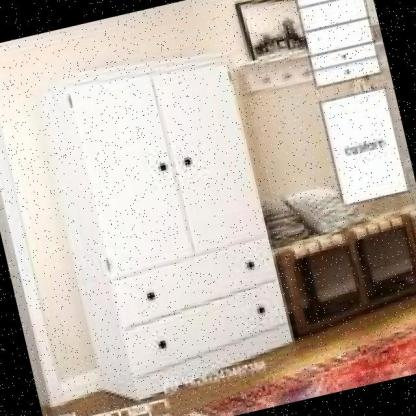Closet: (34, 38, 302, 412)
